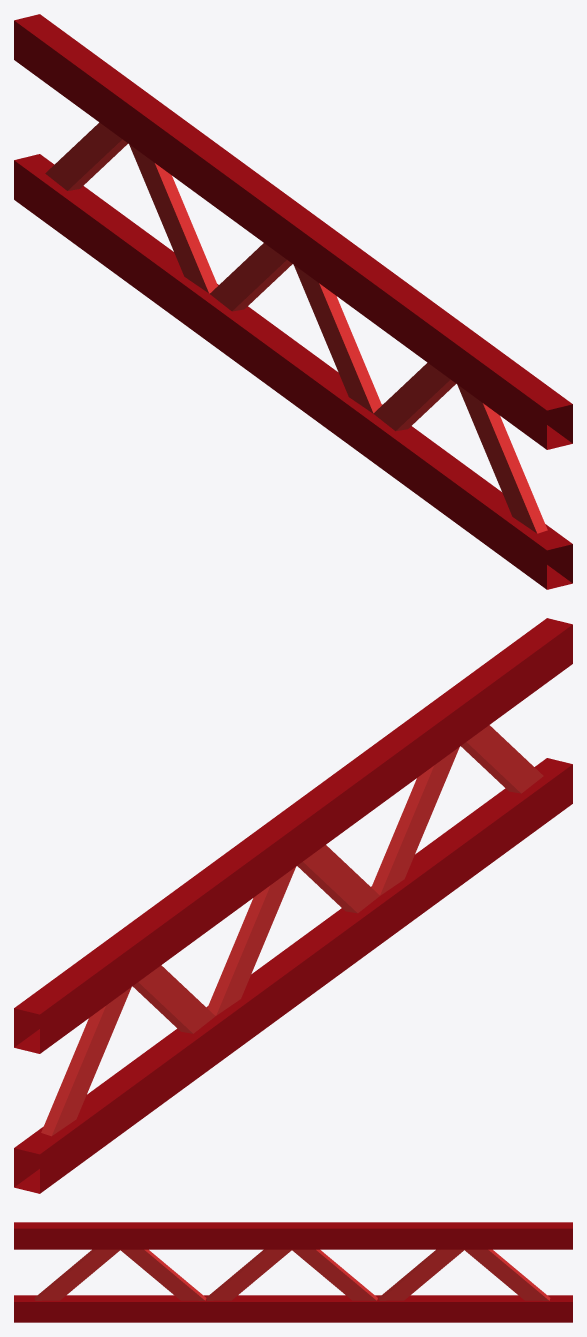
File: SM_Road_part38.fbx
3 renders of one model, top to bottom at view 1: azimuth 30°, elevation 25°; view 2: azimuth 150°, elevation 25°; view 3: azimuth 270°, elevation 25°, orthographic. The views are drawn at different scales.
Visible parts, largest first — view 1: SM_Road_part38; view 2: SM_Road_part38; view 3: SM_Road_part38.
Part boxes in pixels (x1=…): SM_Road_part38: x1=14, y1=14, x2=572, y2=589; SM_Road_part38: x1=14, y1=618, x2=572, y2=1193; SM_Road_part38: x1=14, y1=1222, x2=572, y2=1322.
Bounding box in the file's own units: 72.7 × 481 × 2591.
